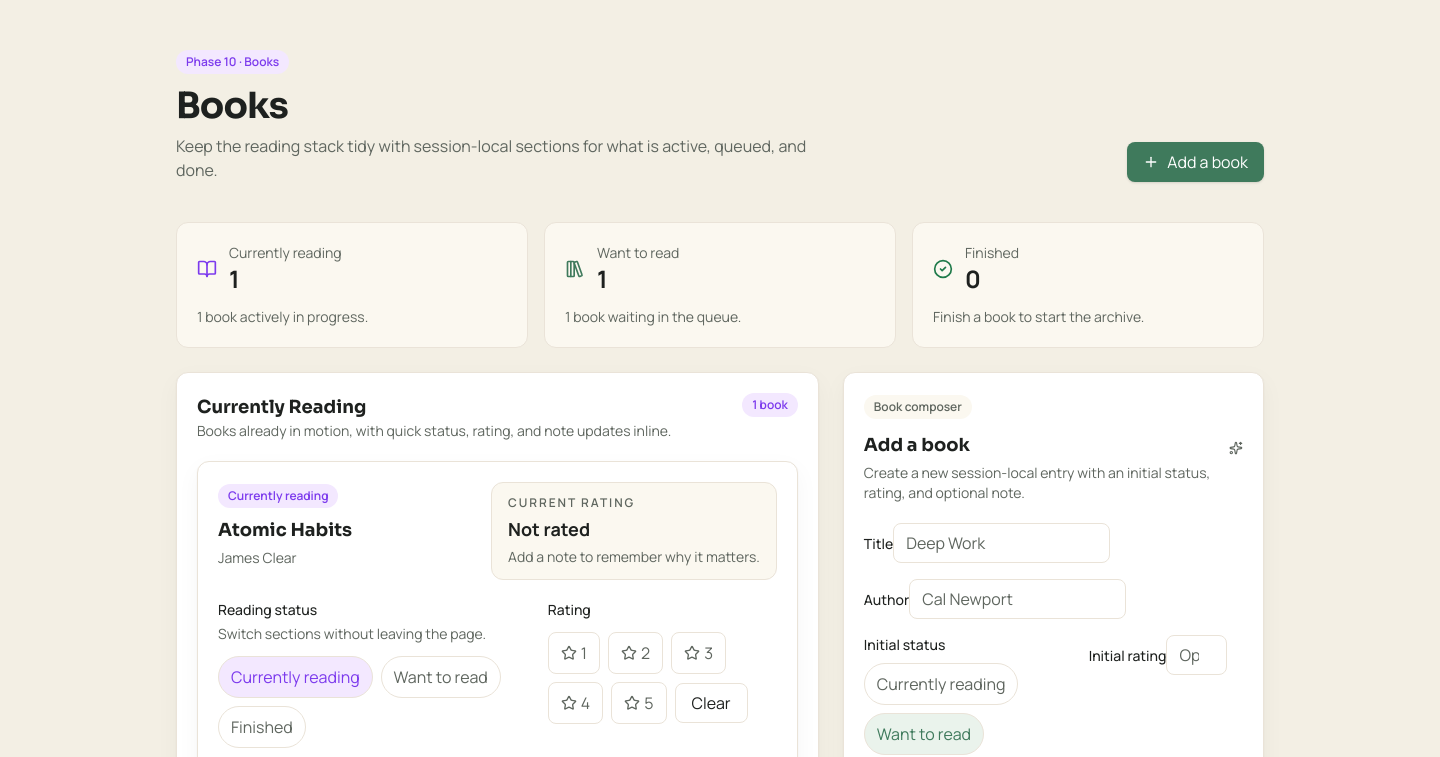
it: BooksPage — moving a book between shelves › moves the book and empties the shelf it came from
Click the button "Finished" below "James Clear". click: coordinates (262, 727)
box: [218,706,306,748]
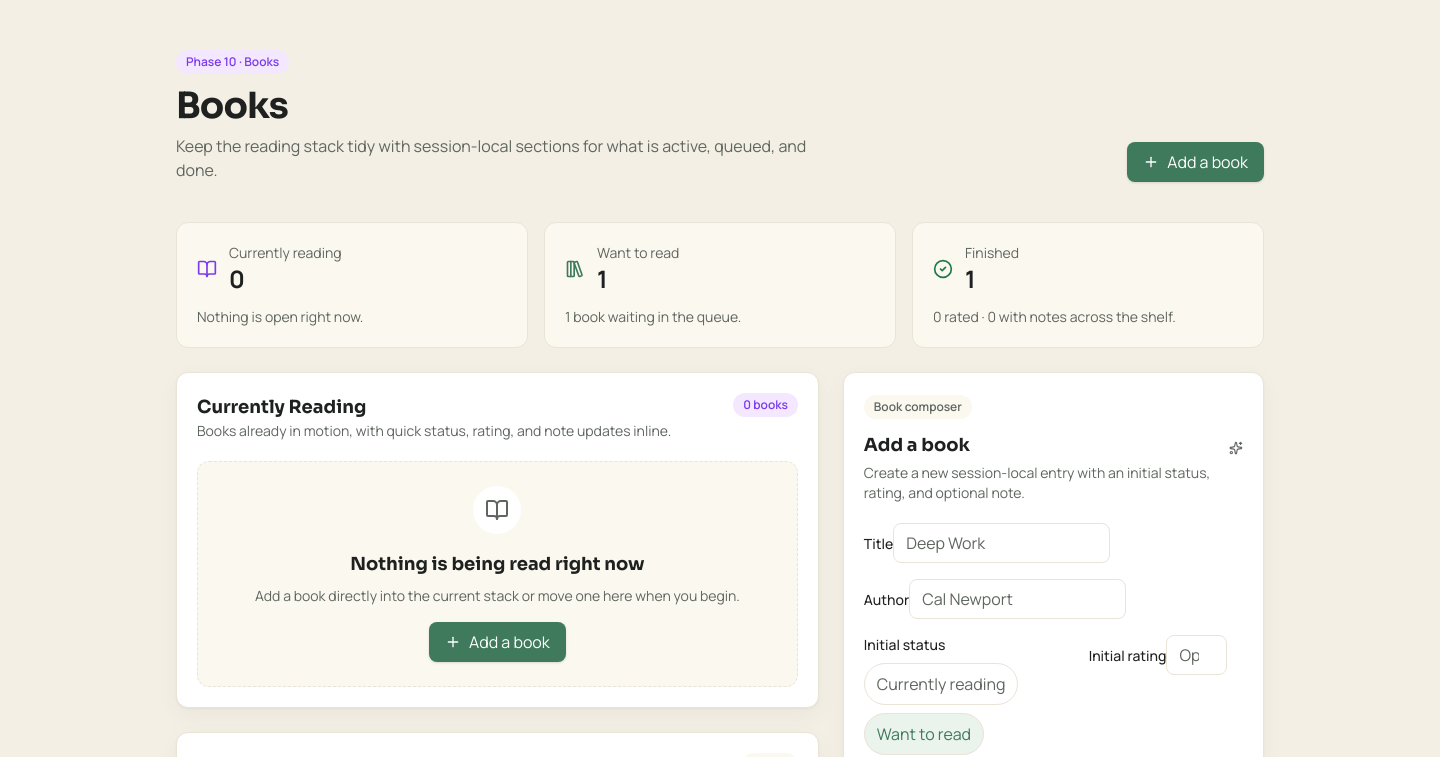
Result: the heading "Nothing is being read right now" is shown at [350,553,645,575]
